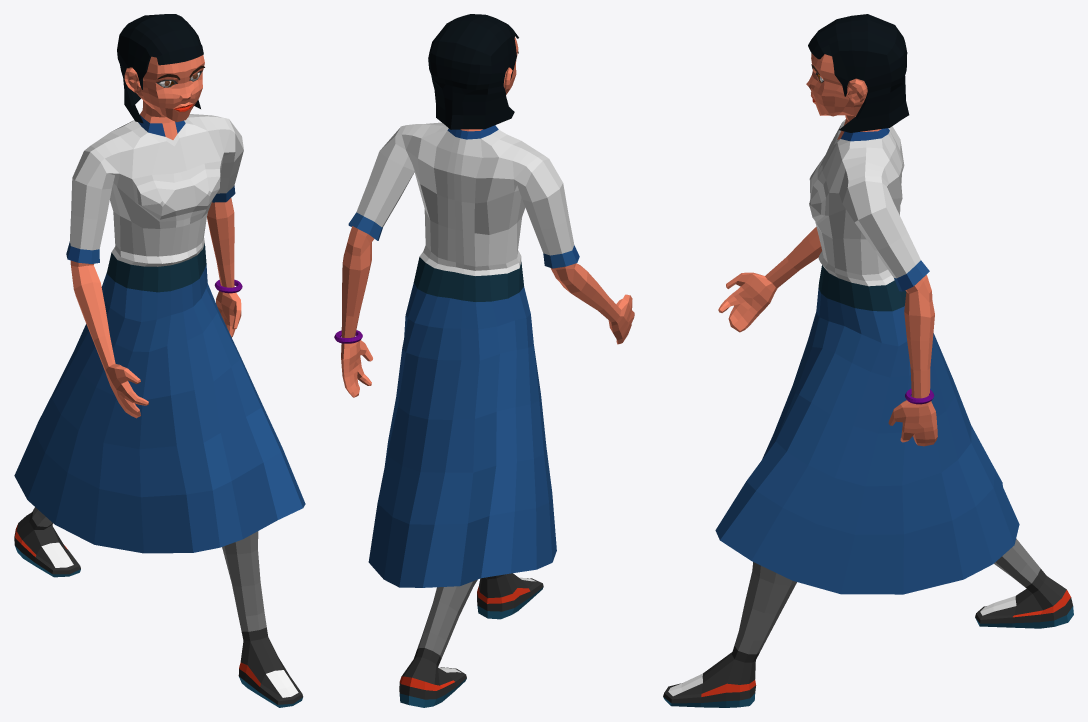
The model's file is StudentFemale_Walk.fbx.
3 renders of one model, left to right at view 1: azimuth 30°, elevation 25°; view 2: azimuth 150°, elevation 25°; view 3: azimuth 270°, elevation 25°, orthographic. The views are drawn at different scales.
Parts seen in each view (by area): view 1: StudentFemale_Walk; view 2: StudentFemale_Walk; view 3: StudentFemale_Walk.
Part boxes in pixels (x1=…): StudentFemale_Walk: x1=14, y1=14, x2=305, y2=707; StudentFemale_Walk: x1=334, y1=14, x2=634, y2=707; StudentFemale_Walk: x1=663, y1=14, x2=1073, y2=707.
Bounding box in the file's own units: 0.2686 × 0.7832 × 0.4406.
